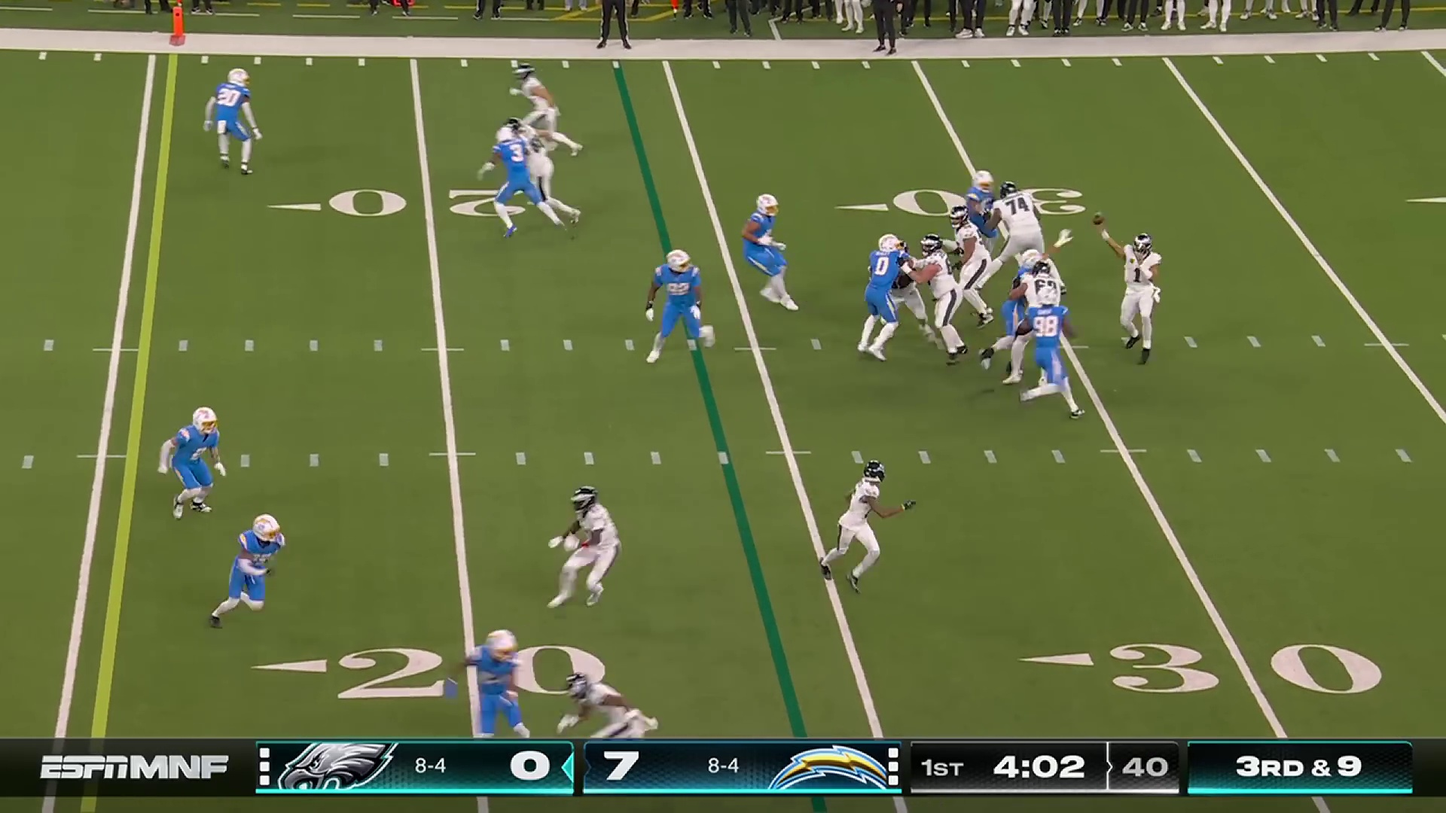ball: (1091, 211, 1104, 226)
player: (450, 629, 540, 761), (1108, 228, 1176, 365), (825, 459, 891, 599), (552, 675, 657, 762), (545, 481, 618, 602), (211, 512, 289, 621), (1022, 285, 1083, 418), (741, 195, 802, 312), (649, 251, 711, 353), (942, 210, 998, 318), (158, 410, 217, 511), (509, 63, 575, 145), (921, 234, 962, 363), (210, 70, 261, 173), (484, 129, 534, 224), (508, 112, 563, 196), (1001, 184, 1059, 259), (861, 232, 896, 353), (891, 240, 918, 314), (963, 174, 994, 237), (1027, 267, 1060, 308), (1015, 251, 1037, 291)
